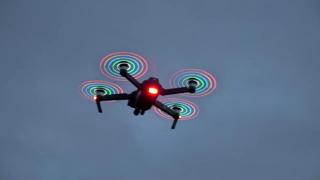UAV: (78, 52, 217, 130)
